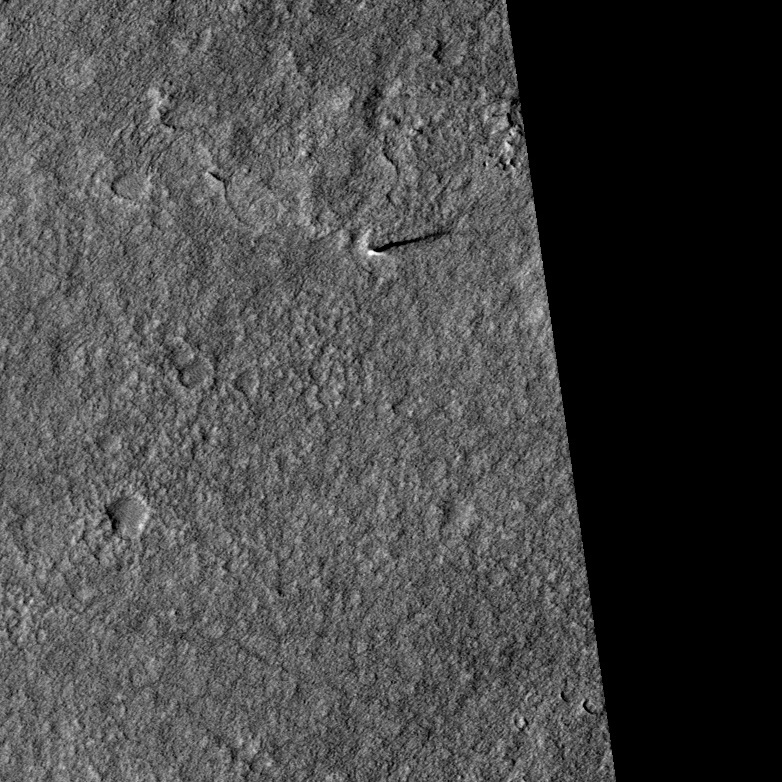dust_devil: (365, 229, 447, 259)
